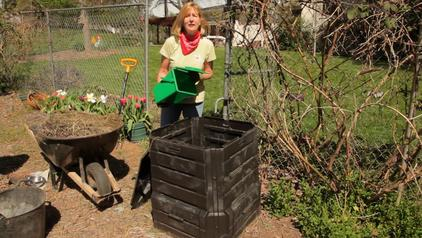down: (131, 155, 157, 200)
sit: (131, 155, 157, 200)
